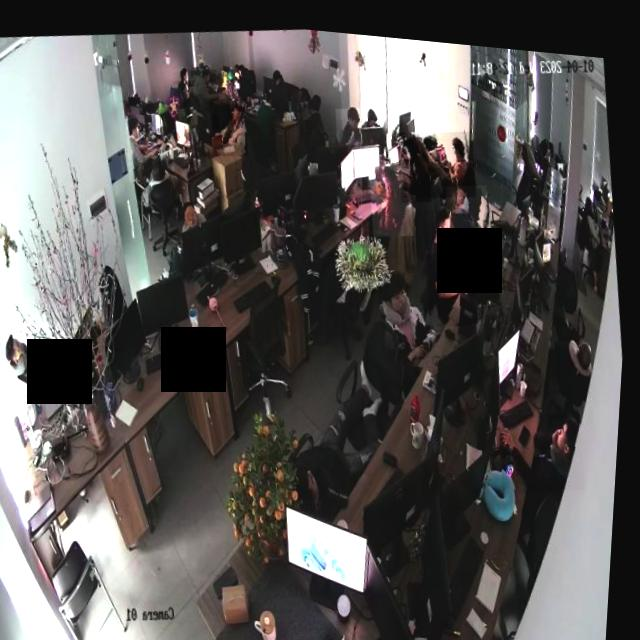person: (498, 395, 593, 487), (419, 195, 485, 321), (372, 256, 447, 363), (398, 116, 481, 195), (443, 172, 498, 264), (367, 150, 418, 231), (394, 120, 436, 196), (123, 109, 164, 181), (208, 90, 252, 154), (186, 60, 229, 114), (334, 98, 365, 139), (172, 60, 197, 109)
